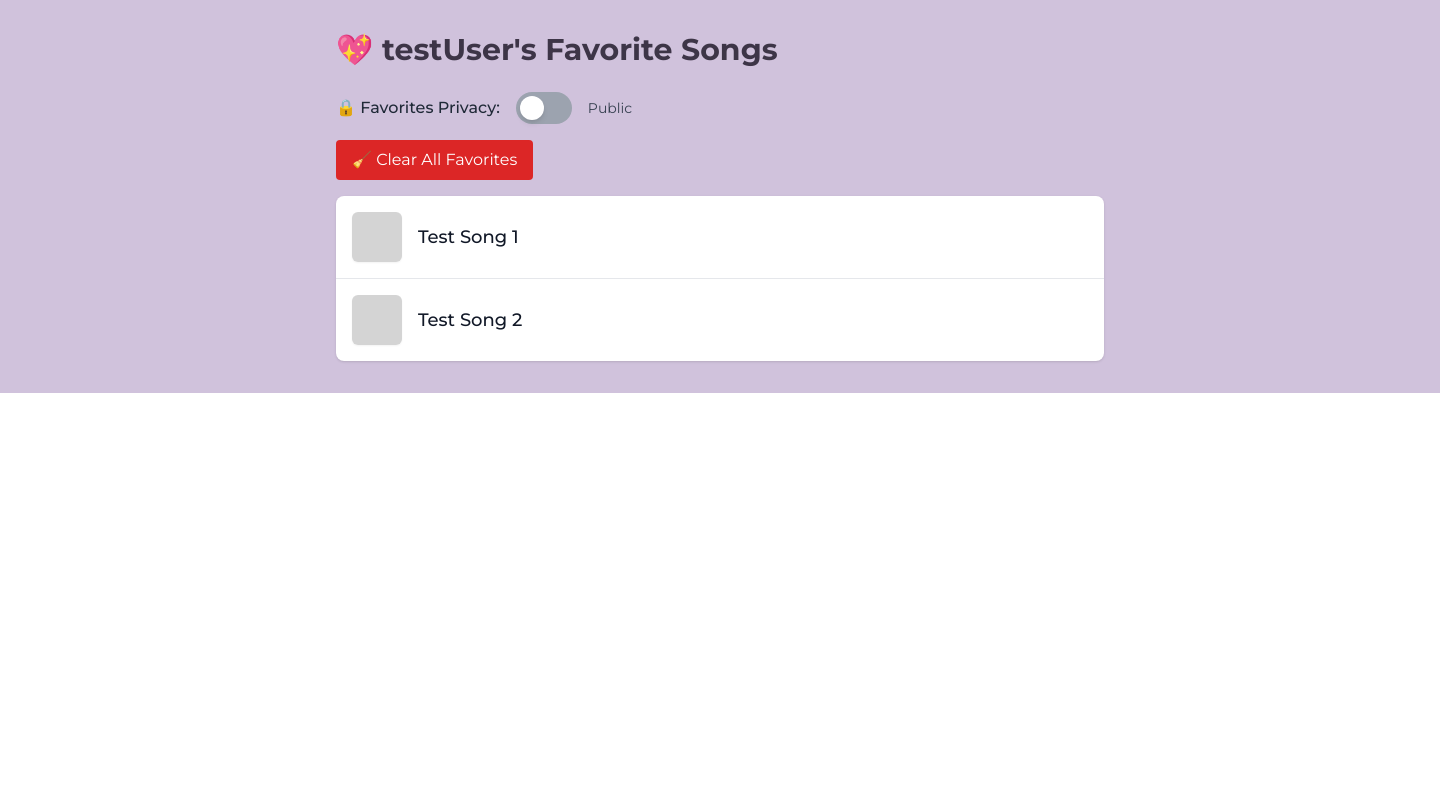
Favorites Component › shows removal confirmation when clicking remove button
The width and height of the screenshot is (1440, 810).
Expected: the text "Test Song 1" is shown, [418,226,519,248]
Note: Hover over song to show buttons
Hover over the button "Test Song 1".
mouse_move(377, 237)  # box [336,196,1104,279]
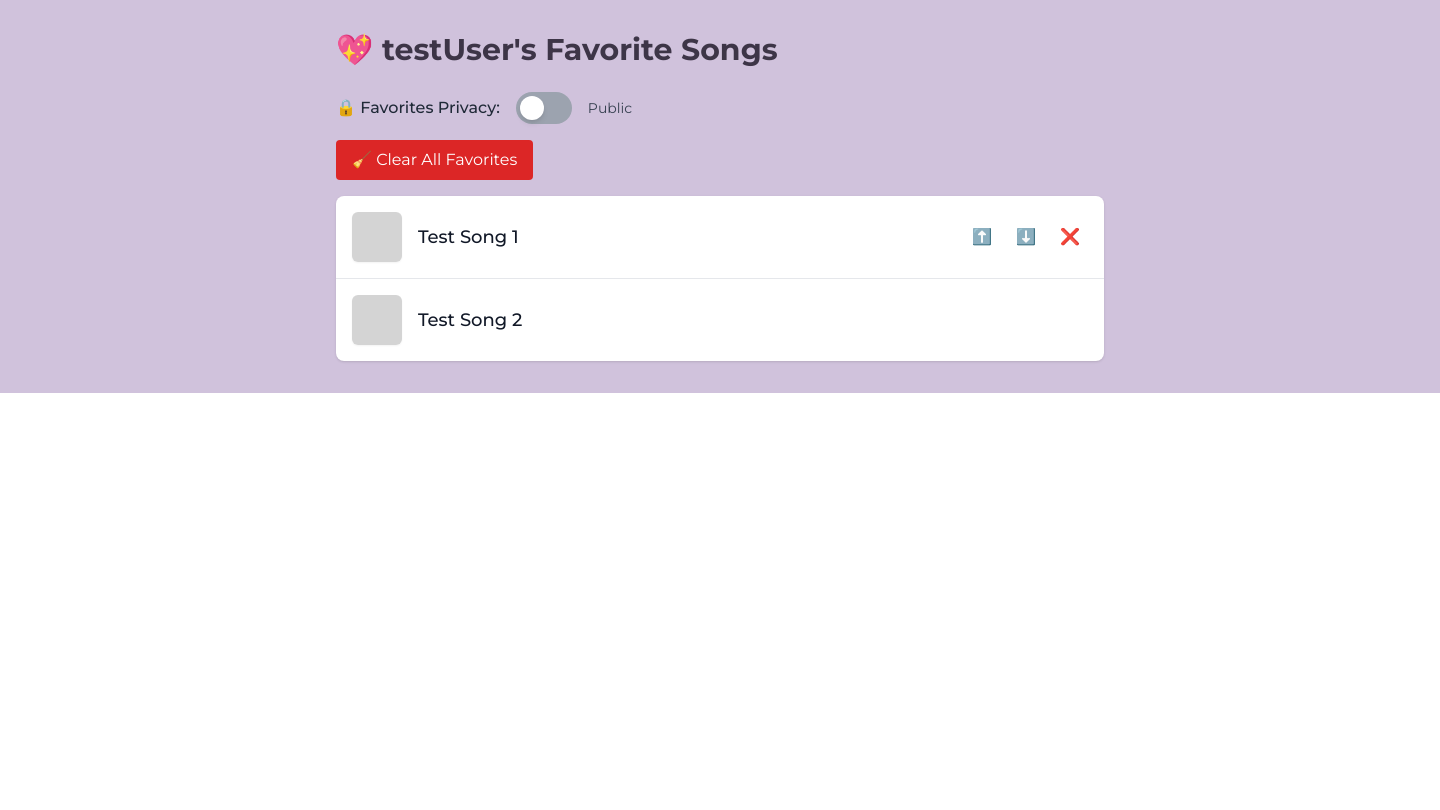
Note: Click remove button
Click the button named "Remove".
click(1070, 237)  # box [1052,221,1088,253]
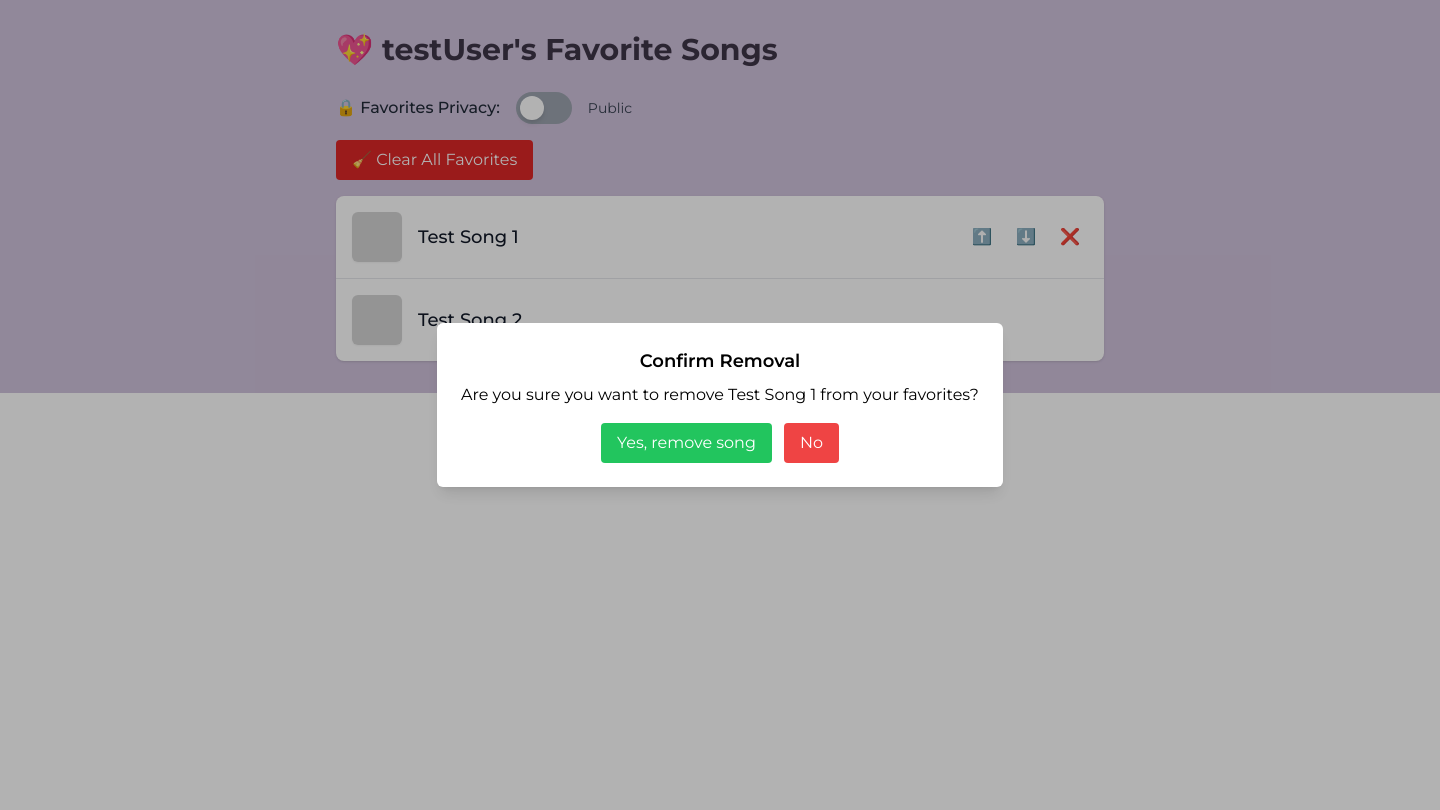
Now the heading "Confirm Removal" is shown, box [640,350,800,372]
Now the text "Are you sure you want to remove Test Song 1 from your favorites?" is shown, box [461,383,979,407]
